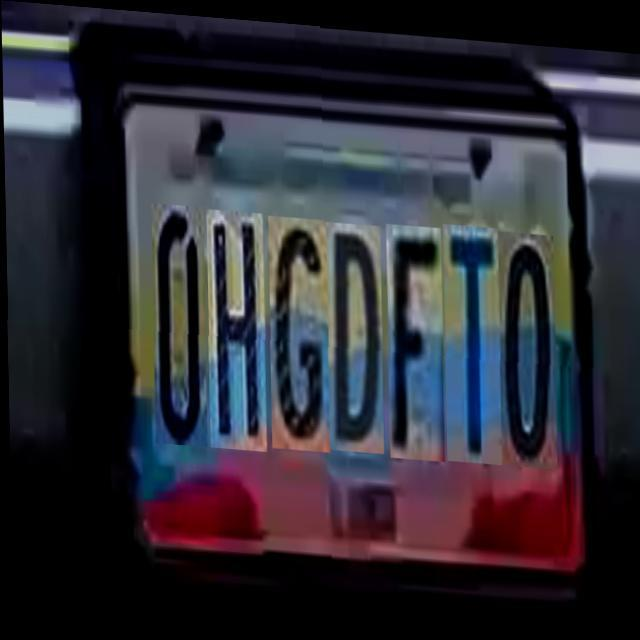0: (150, 202, 207, 445)
D: (325, 217, 383, 448)
F: (385, 217, 444, 454)
G: (267, 212, 329, 448)
H: (205, 207, 266, 449)
O: (497, 222, 557, 460)
T: (442, 217, 501, 457)
